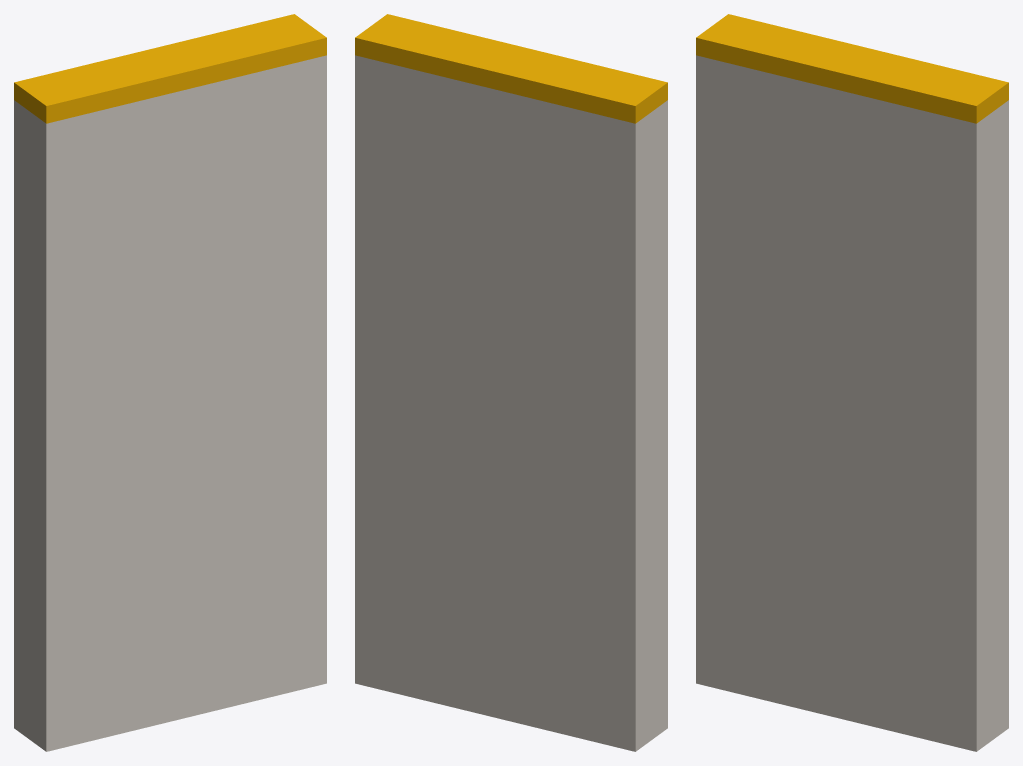
File: raum_wand.glb
3 views of the same model, side by side, from view 1: azimuth 30°, elevation 25°; view 2: azimuth 150°, elevation 25°; view 3: azimuth 330°, elevation 25° (orthographic).
Parts seen in each view (by area): view 1: raum_wand; view 2: raum_wand; view 3: raum_wand.
Part boxes in pixels (<box>): raum_wand: <box>14,14,326,751</box>; raum_wand: <box>355,14,667,751</box>; raum_wand: <box>696,14,1008,751</box>.
Size of the model in its own units: 1 by 2.2 by 0.2.
